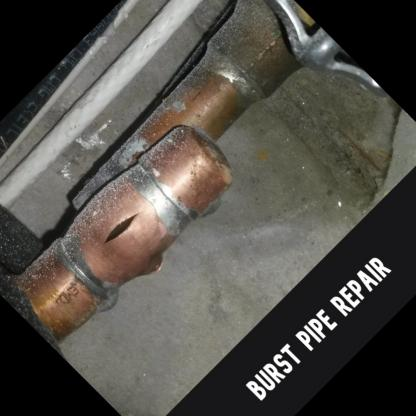burst: (100, 208, 139, 257)
